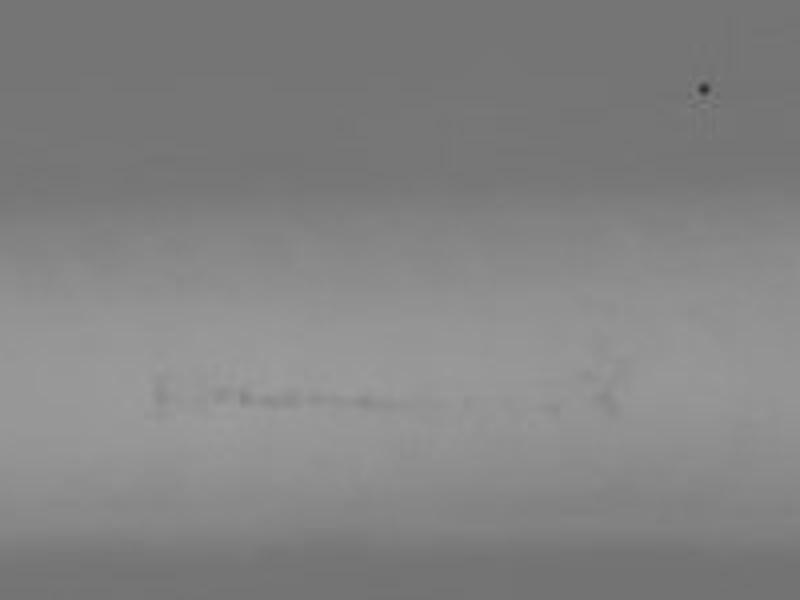defect: (311, 390, 391, 408), (236, 390, 301, 409), (596, 383, 625, 423), (587, 327, 615, 358), (609, 357, 636, 385), (150, 378, 168, 419), (206, 383, 232, 407), (694, 78, 716, 105), (543, 400, 567, 422), (578, 363, 600, 385)
